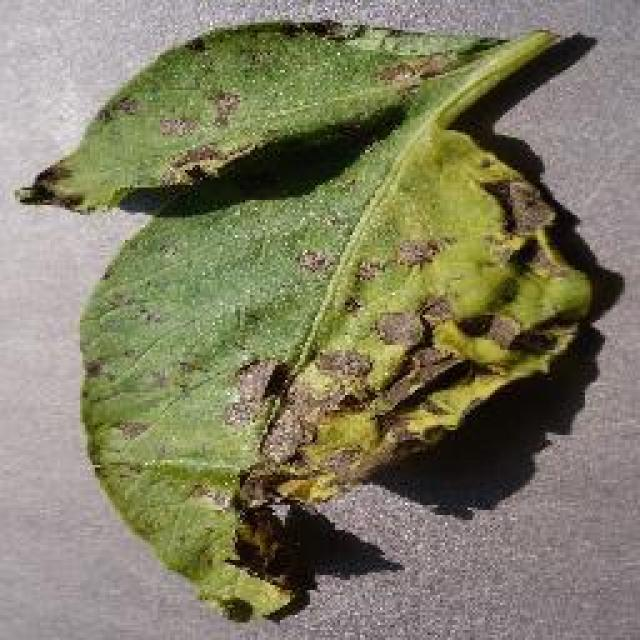Potato___Early_blight: (13, 17, 596, 629)
